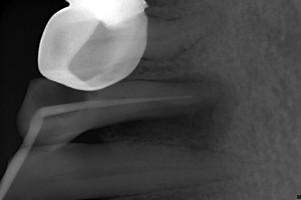Furcation Involvement: (105, 72, 242, 148)
